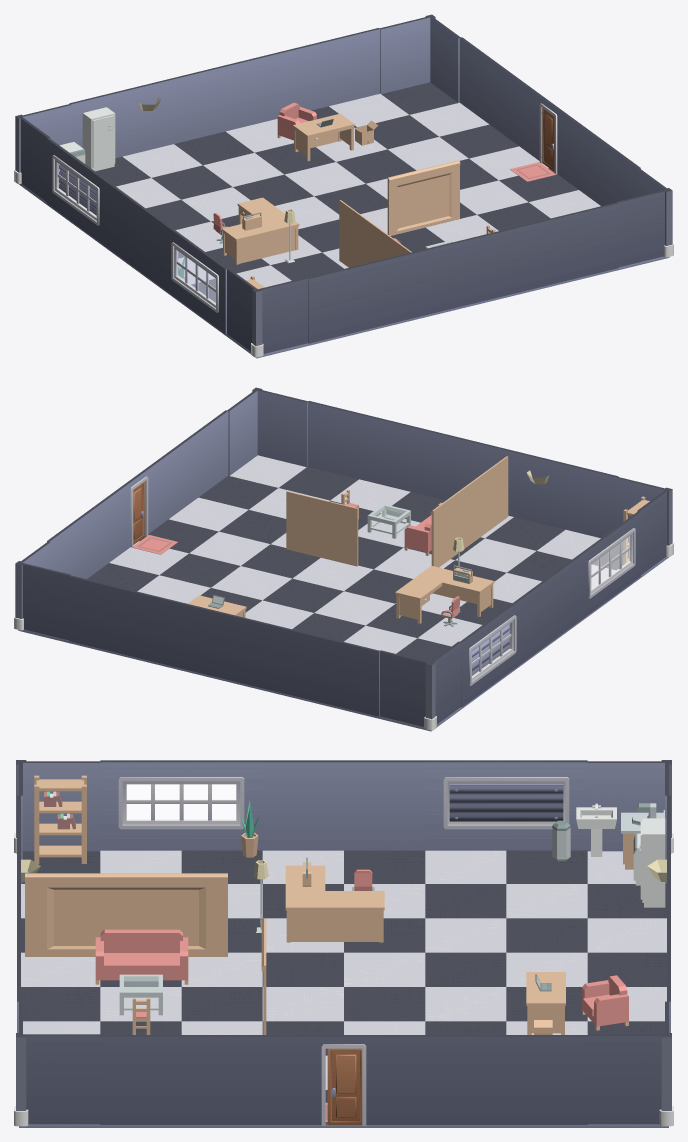
3 renders of one model, top to bottom at view 1: azimuth 30°, elevation 25°; view 2: azimuth 150°, elevation 25°; view 3: azimuth 270°, elevation 25°, orthographic. The views are drawn at different scales.
Visible parts, largest first — view 1: wall.001, floor.004, wall.002, floor.003, floor.002, wall-corner-column-bottom.002, floor.001, wall-corner-column-bottom.004, wall.004, wall.003, paneling(Clone).001, wall-corner-column-bottom.001 (+15 smaller); view 2: wall.002, wall.001, floor.002, floor.001, floor.004, floor.003, wall-corner-column-bottom.003, wall-corner-column-bottom.001, wall.003, paneling(Clone).002, wall.004, paneling(Clone).001 (+14 smaller); view 3: floor.003, floor.001, wall.004, wall.003, floor.002, wall.005, paneling(Clone).002, floor.004, wall-window-wide-square-detailed.001, wall-window-wide-square-detailed.002, wall-corner-column-bottom.001, wall-corner-column-bottom.004 (+19 smaller).
Boxes of the visible parts, <box> form: wall.001: <box>308,202,618,343</box>; floor.004: <box>226,82,548,214</box>; wall.002: <box>69,28,380,158</box>; floor.003: <box>19,131,339,270</box>; floor.002: <box>360,168,669,307</box>; wall-corner-column-bottom.002: <box>227,268,308,357</box>; floor.001: <box>137,219,463,358</box>; wall-corner-column-bottom.004: <box>380,14,460,102</box>; wall.004: <box>459,37,536,156</box>; wall.003: <box>564,113,640,205</box>; paneling(Clone).001: <box>387,160,460,235</box>; wall-corner-column-bottom.001: <box>617,168,673,267</box>; wall.002: <box>69,575,379,716</box>; wall.001: <box>307,401,618,538</box>; floor.002: <box>139,455,445,590</box>; floor.001: <box>344,515,668,643</box>; floor.004: <box>18,541,343,680</box>; floor.003: <box>224,591,550,731</box>; wall-corner-column-bottom.003: <box>379,641,460,730</box>; wall-corner-column-bottom.001: <box>227,387,307,475</box>; wall.003: <box>151,410,228,529</box>; paneling(Clone).002: <box>430,456,508,567</box>; wall.004: <box>47,486,123,578</box>; paneling(Clone).001: <box>286,491,358,566</box>; floor.003: <box>344,850,666,986</box>; floor.001: <box>21,850,343,986</box>; wall.004: <box>384,1035,587,1124</box>; wall.003: <box>100,1035,303,1124</box>; floor.002: <box>19,987,343,1127</box>; wall.005: <box>262,760,425,850</box>; paneling(Clone).002: <box>25,873,227,956</box>; floor.004: <box>344,987,668,1127</box>; wall-window-wide-square-detailed.001: <box>100,760,262,850</box>; wall-window-wide-square-detailed.002: <box>425,760,587,850</box>; wall-corner-column-bottom.001: <box>14,1001,100,1126</box>; wall-corner-column-bottom.004: <box>587,1001,673,1126</box>.
Size of the model in its own units: 48.75 by 7.5 by 48.75.
139 materials, 78 textured.
